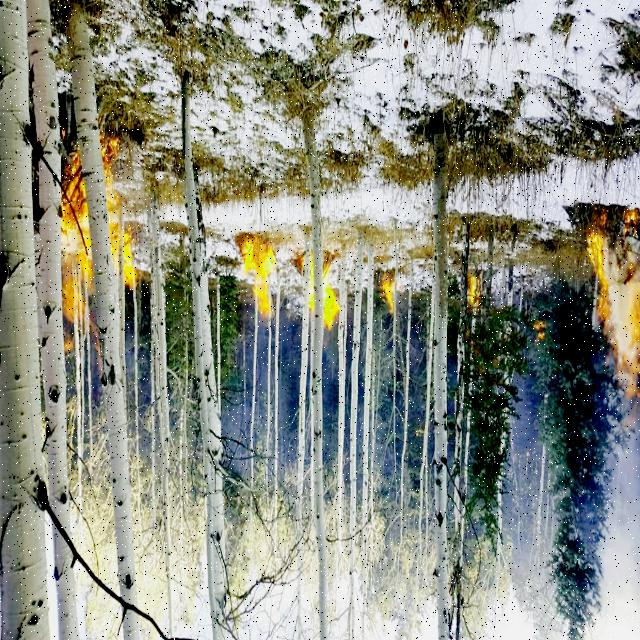api: (65, 150, 89, 327), (108, 148, 134, 289), (243, 233, 276, 323), (589, 237, 608, 316), (324, 267, 340, 331), (632, 280, 640, 399), (388, 263, 399, 322), (311, 252, 318, 318), (470, 271, 480, 314)
asap: (608, 258, 635, 374)
